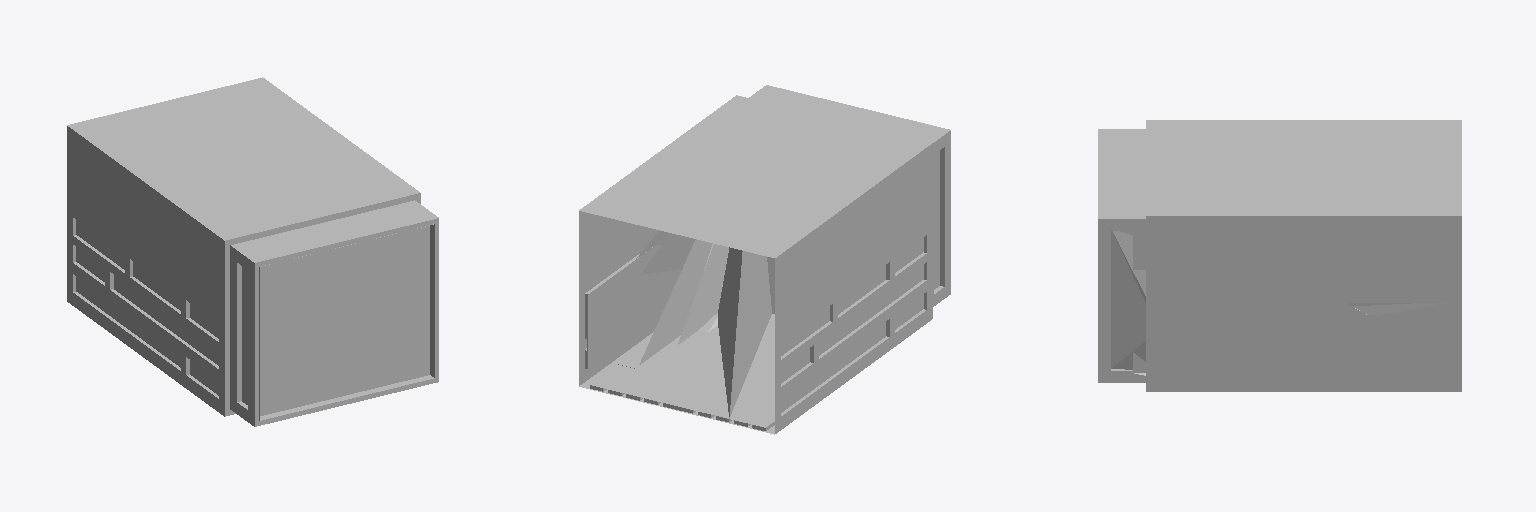
The model's file is myhouse.obj.
3 renders of one model, left to right at view 1: azimuth 30°, elevation 25°; view 2: azimuth 150°, elevation 25°; view 3: azimuth 270°, elevation 25°, orthographic.
Parts seen in each view (by area): view 1: Building11; view 2: Building11, objdefault; view 3: Building11, objdefault.
Boxes of the visible parts, box(x1,y1,x2,y2) form: Building11: box(67, 77, 438, 426); Building11: box(579, 85, 950, 434); objdefault: box(585, 230, 774, 433); Building11: box(1098, 120, 1461, 391); objdefault: box(1111, 231, 1449, 377).
Size of the model in its own units: 139 by 119 by 223.